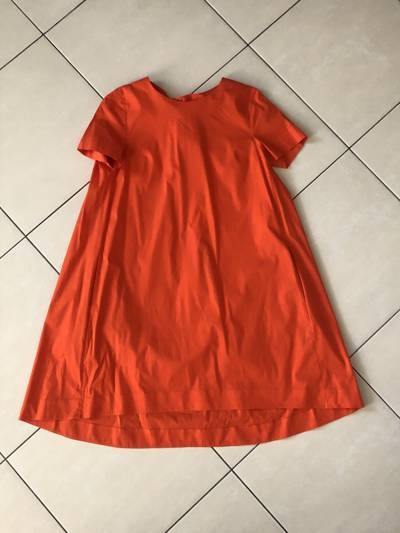Dress: (21, 5, 367, 468)
